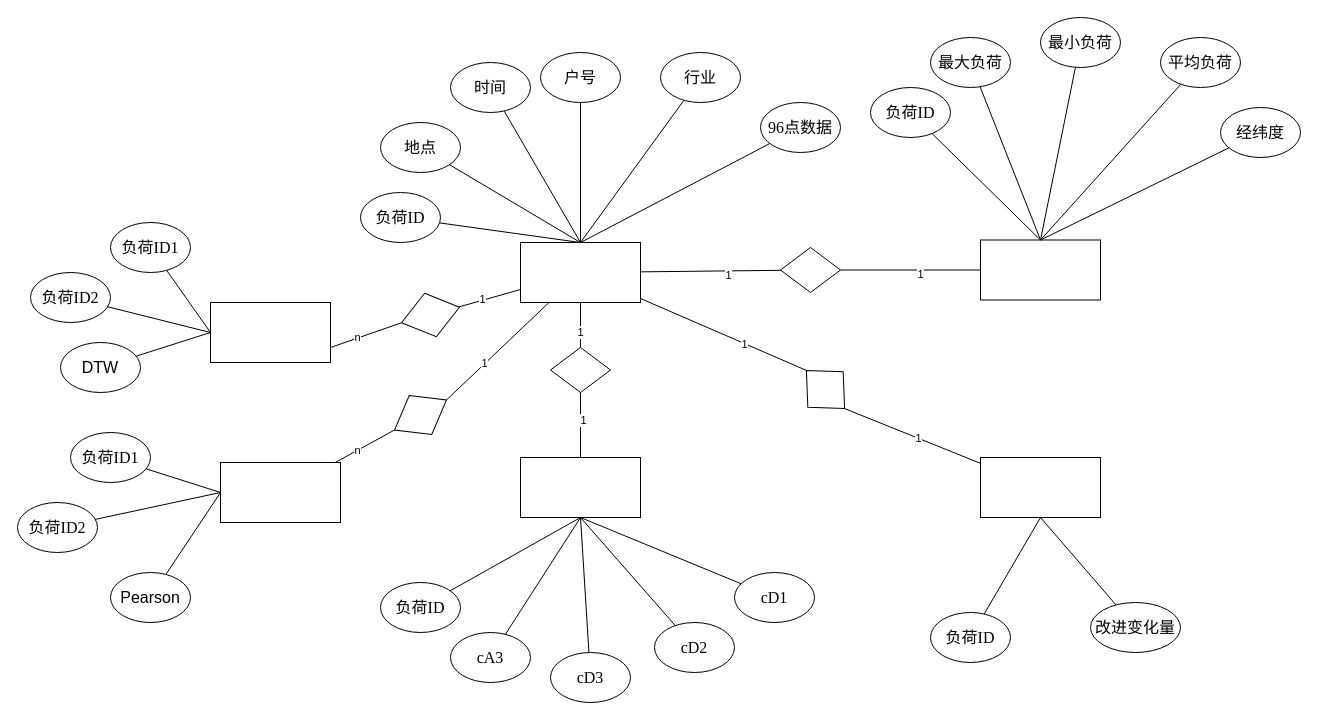
The diagram is 1318 pixels wide and 720 high, and some of its shapes have lost their labels. The shapes that lost their labels are listed below. From the top down, each one's centre as x and y in pixels, then its label:
At point 580,272: "Electric Load".
At point 1040,269: "Basic Load Features".
At point 270,332: "Load DTW".
At point 280,492: "Load Pearson Distance".
At point 580,487: "Load Wavelet Transform".
At point 1040,487: "Load Improvement Change".
